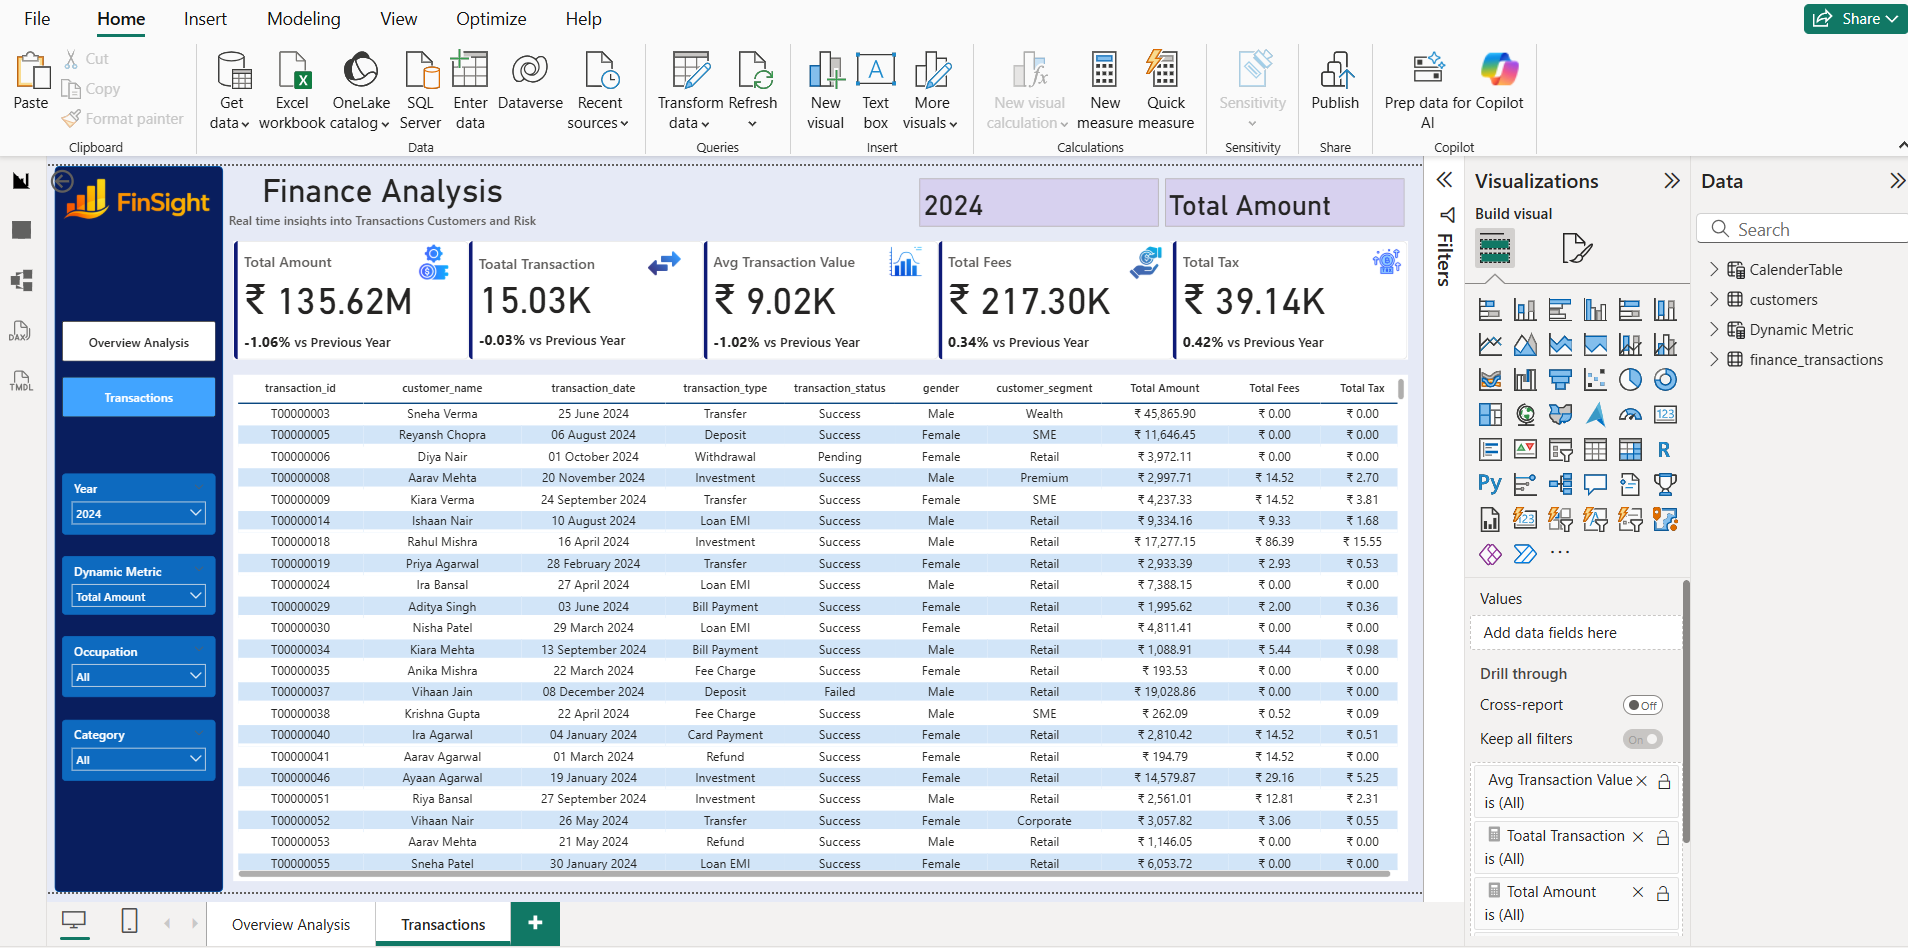

The page's visual inventory and layout, read from the dashboard file:
{"tool":"powerbi","page":{"name":"Transactions","canvas":[1800,950],"ordinal":1},"visuals":[{"type":"shape","box":[9.8,0,220.7,950],"z":0},{"type":"image","box":[9.8,0,220.7,85],"z":1000},{"type":"card","fields":{"Values":["finance_transactions.Dashboard Title"]},"box":[230.6,0,417,98.1],"z":2000},{"type":"cardVisual","fields":{"Data":["finance_transactions.Total Amount","finance_transactions.Toatal Transaction","finance_transactions.Avg Transaction Value","finance_transactions.Total Fees","finance_transactions.Total Tax"]},"box":[243.6,98.1,1537.1,155.3],"z":3000},{"type":"image","box":[477.5,98.1,57.2,55.6],"z":4000},{"type":"image","box":[780,99.7,55.6,55.6],"z":5000},{"type":"image","box":[1409.5,99.7,55.6,54],"z":6000},{"type":"image","box":[1095.6,98.1,55.6,54],"z":7000},{"type":"image","box":[1725.1,98.1,55.6,54],"z":8000},{"type":"cardVisual","fields":{"Data":["finance_transactions.Selected Year","finance_transactions.Selected Dynamic Measure"]},"box":[1136.4,11.4,644.3,73.6],"z":9000},{"type":"tableEx","fields":{"Values":["finance_transactions.transaction_id","customers.customer_name","finance_transactions.transaction_date","finance_transactions.transaction_type","finance_transactions.transaction_status","customers.gender","customers.customer_segment","finance_transactions.Total Amount","finance_transactions.Total Fees","finance_transactions.Total Tax"]},"box":[243.6,273.1,1537.1,662.2],"z":10000},{"type":"actionButton","box":[0,0,100,40],"z":11000},{"type":"slicer","fields":{"Values":["CalenderTable.Year"]},"box":[19.6,402.3,201.1,80.1],"z":12000},{"type":"slicer","fields":{"Values":["Dynamic Mertc.Dynamic Mertc"]},"box":[19.6,510.2,201.1,76.9],"z":13000},{"type":"slicer","fields":{"Values":["customers.occupation"]},"box":[19.6,614.8,201.1,80.1],"z":14000},{"type":"slicer","fields":{"Values":["finance_transactions.merchant_category"]},"box":[19.6,724.4,201.1,80.1],"z":15000},{"type":"pageNavigator","box":[19.6,202.8,201.1,127.5],"z":16000}]}

Visuals, with their boxes on the page's 1800x950 design canvas (x1, y1, x2, y2). These are canvas units, not pixel positions in the 1908x948 screenshot, which may show the page scaled, cropped or inside an application window:
shape: crop(10, 0, 230, 950)
image: crop(10, 0, 230, 85)
card - finance_transactions.Dashboard Title: crop(231, 0, 648, 98)
cardVisual - finance_transactions.Total Amount x finance_transactions.Toatal Transaction: crop(244, 98, 1781, 253)
image: crop(478, 98, 535, 154)
image: crop(780, 100, 836, 155)
image: crop(1410, 100, 1465, 154)
image: crop(1096, 98, 1151, 152)
image: crop(1725, 98, 1781, 152)
cardVisual - finance_transactions.Selected Year x finance_transactions.Selected Dynamic Measure: crop(1136, 11, 1781, 85)
tableEx - finance_transactions.transaction_id x customers.customer_name: crop(244, 273, 1781, 935)
actionButton: crop(0, 0, 100, 40)
slicer - CalenderTable.Year: crop(20, 402, 221, 482)
slicer - Dynamic Mertc.Dynamic Mertc: crop(20, 510, 221, 587)
slicer - customers.occupation: crop(20, 615, 221, 695)
slicer - finance_transactions.merchant_category: crop(20, 724, 221, 804)
pageNavigator: crop(20, 203, 221, 330)
